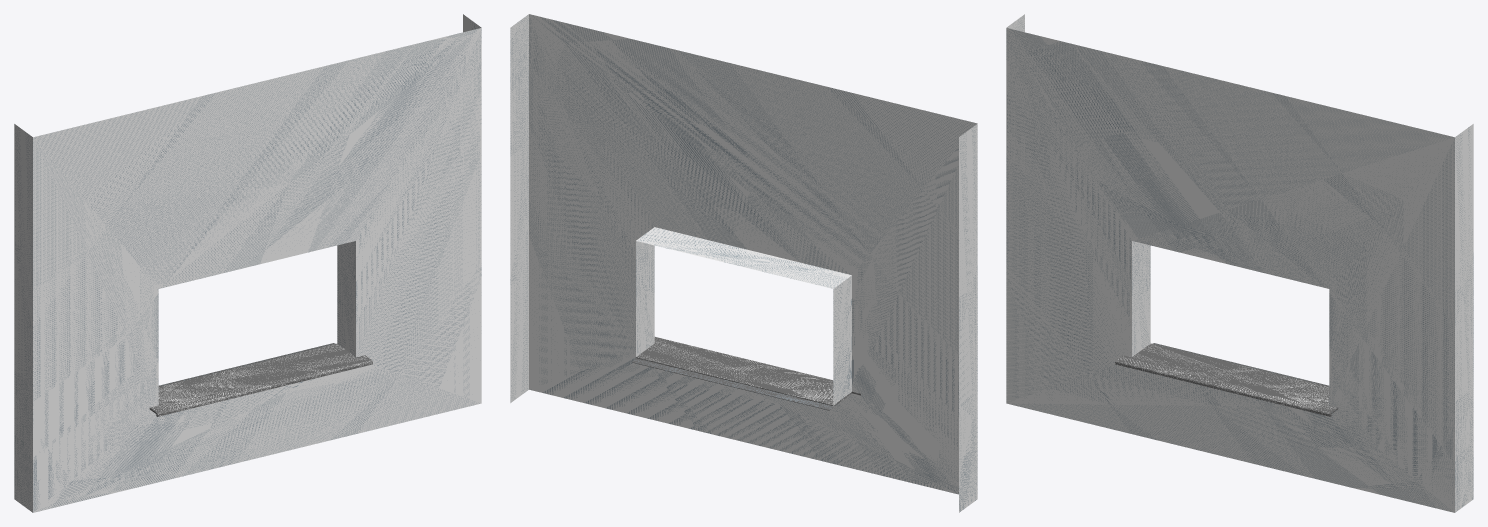
File: WindowBlock_os_[500x400]_220x124x[080].dae
3 views of the same model, side by side, from view 1: azimuth 30°, elevation 25°; view 2: azimuth 150°, elevation 25°; view 3: azimuth 330°, elevation 25° (orthographic).
Visible parts, largest first — view 1: group_1 (×2), group_2; view 2: group_1 (×2), group_2 (×2); view 3: group_1 (×2), group_2.
Part boxes in pixels (<box>): group_1 (×2): <box>14,14,481,512</box>; group_2: <box>149,343,372,416</box>; group_1 (×2): <box>510,14,977,512</box>; group_2 (×2): <box>632,337,860,410</box>; group_1 (×2): <box>1006,14,1473,512</box>; group_2: <box>1115,343,1337,416</box>.
Bounding box in the file's own units: 197 × 23.03 × 157.
